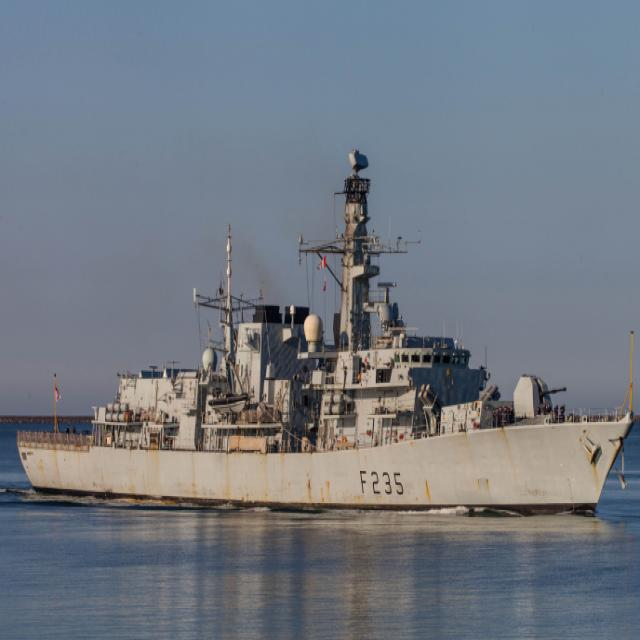Fragata: (13, 117, 639, 525)
